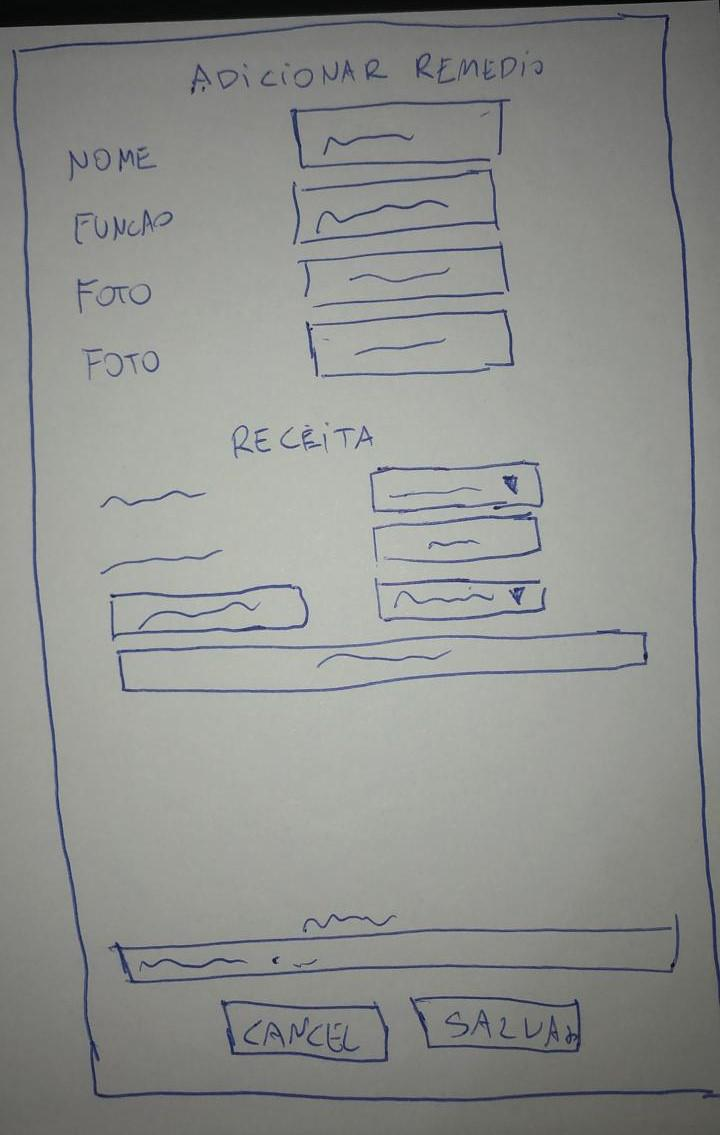Button: (116, 629, 649, 693), (306, 311, 514, 378), (304, 246, 509, 307), (110, 583, 309, 639), (219, 999, 389, 1062), (409, 995, 581, 1053), (373, 515, 543, 564)
Label: (191, 49, 544, 93), (231, 423, 373, 459), (74, 210, 174, 245), (100, 549, 223, 574), (68, 146, 156, 180), (83, 347, 159, 382), (77, 278, 152, 313), (100, 490, 205, 509), (302, 911, 397, 932)
ListPicker: (369, 462, 544, 513), (375, 576, 546, 622)
Screen: (13, 14, 719, 1100)
TextBox: (117, 927, 680, 982), (292, 168, 500, 244), (291, 99, 503, 168)
